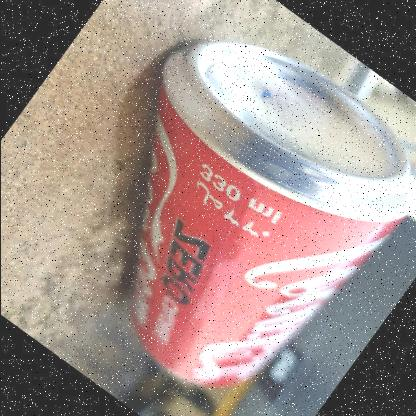Can: (120, 37, 412, 390)
